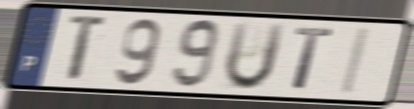9: (168, 17, 221, 92), (113, 16, 163, 87)
I: (338, 26, 374, 98)
T: (67, 12, 111, 85), (291, 25, 337, 94)
U: (222, 20, 288, 93)
